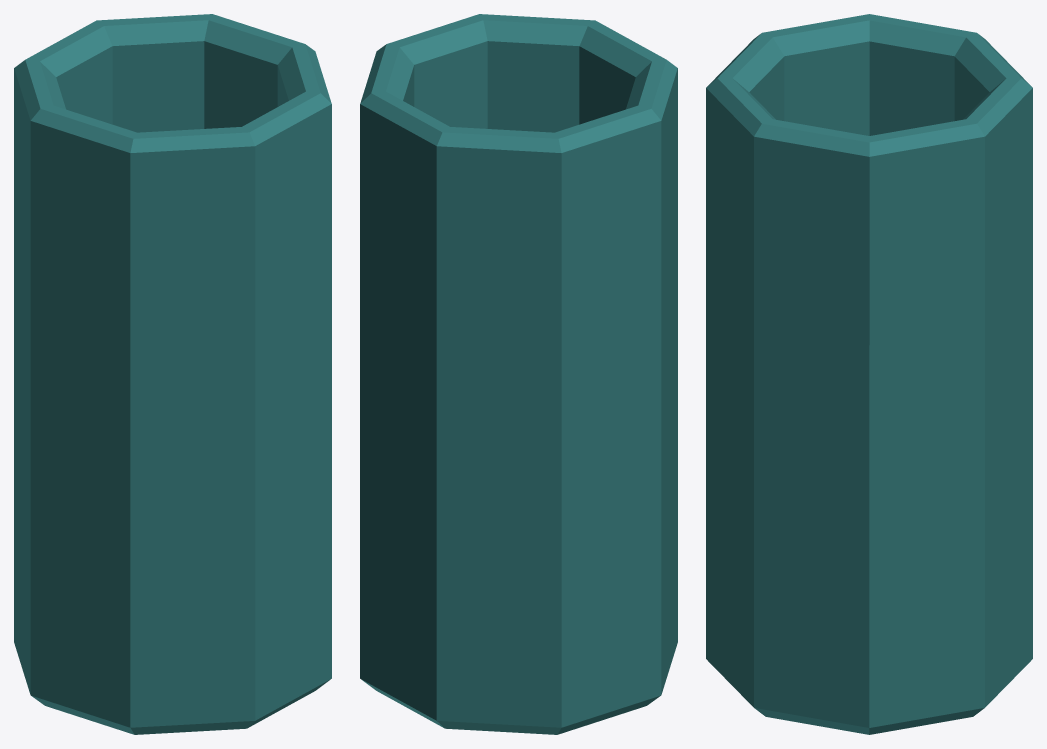
File: Glass.glb
3 renders of one model, left to right at view 1: azimuth 30°, elevation 25°; view 2: azimuth 150°, elevation 25°; view 3: azimuth 270°, elevation 25°, orthographic.
Visible parts, largest first — view 1: Glass; view 2: Glass; view 3: Glass.
Boxes of the visible parts, x1,y1,x2,y2 form: Glass: [14, 14, 331, 734]; Glass: [360, 14, 677, 734]; Glass: [706, 14, 1032, 734].
Bounding box in the file's own units: 43.28 × 86.86 × 43.28.
